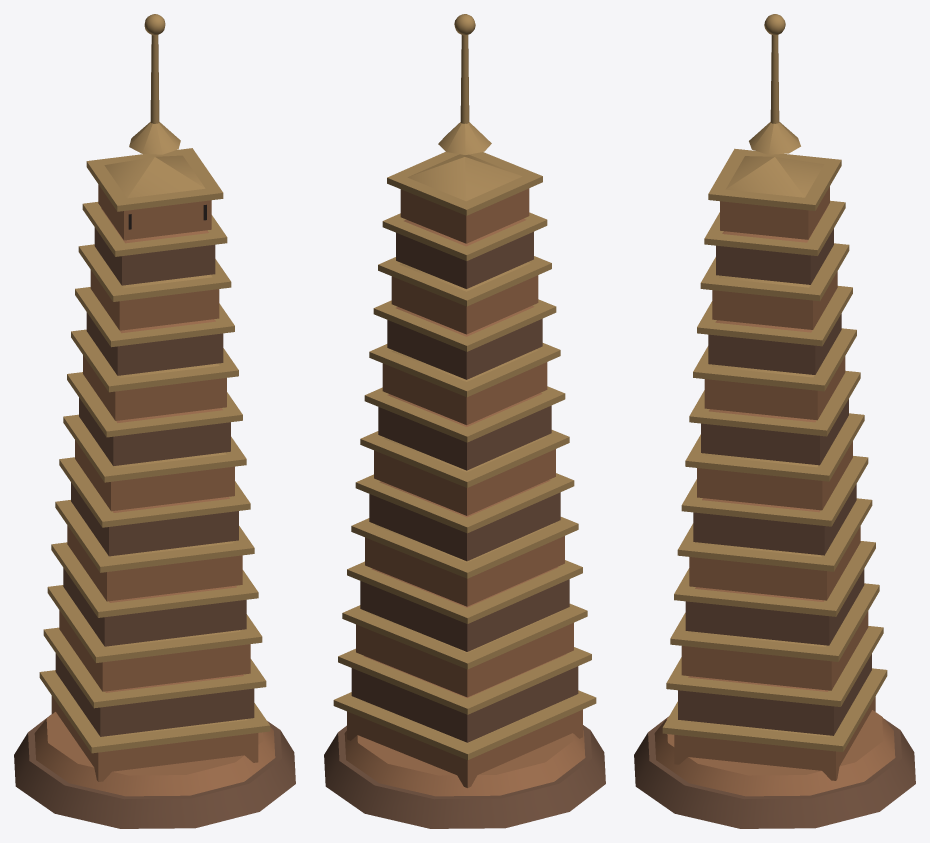
The model's file is model-medium.glb.
3 views of the same model, side by side, from view 1: azimuth 30°, elevation 25°; view 2: azimuth 150°, elevation 25°; view 3: azimuth 270°, elevation 25° (orthographic).
Parts seen in each view (by area): view 1: GlazedBrickBody (×13), Eave_Band (×13), Foundation_Platform, Foundation_Step, Roof_Eave, Finial_Crown, Finial_Shaft; view 2: GlazedBrickBody (×13), Eave_Band (×13), Foundation_Platform, Foundation_Step, Roof_Eave, Finial_Crown, Finial_Shaft; view 3: GlazedBrickBody (×13), Eave_Band (×13), Foundation_Platform, Foundation_Step, Roof_Eave, Finial_Crown, Finial_Shaft.
Boxes of the visible parts, box(x1,y1,x2,y2) form: GlazedBrickBody (×13): box(51, 184, 258, 781); Eave_Band (×13): box(39, 148, 270, 753); Foundation_Platform: box(14, 714, 295, 828); Foundation_Step: box(34, 712, 275, 796); Roof_Eave: box(104, 155, 205, 198); Finial_Crown: box(129, 122, 180, 154); Finial_Shaft: box(150, 35, 159, 123); GlazedBrickBody (×13): box(347, 188, 582, 787); Eave_Band (×13): box(333, 152, 596, 759); Foundation_Platform: box(324, 725, 605, 828); Foundation_Step: box(344, 730, 585, 796); Roof_Eave: box(407, 154, 522, 201); Finial_Crown: box(438, 122, 491, 154); Finial_Shaft: box(460, 35, 469, 123); GlazedBrickBody (×13): box(674, 186, 875, 780); Eave_Band (×13): box(662, 148, 887, 751); Foundation_Platform: box(634, 716, 915, 828); Foundation_Step: box(654, 710, 895, 796); Roof_Eave: box(725, 156, 823, 197); Finial_Crown: box(749, 122, 800, 154); Finial_Shaft: box(770, 35, 779, 123).
Size of the model in its own units: 4.7 by 13.88 by 4.7.
